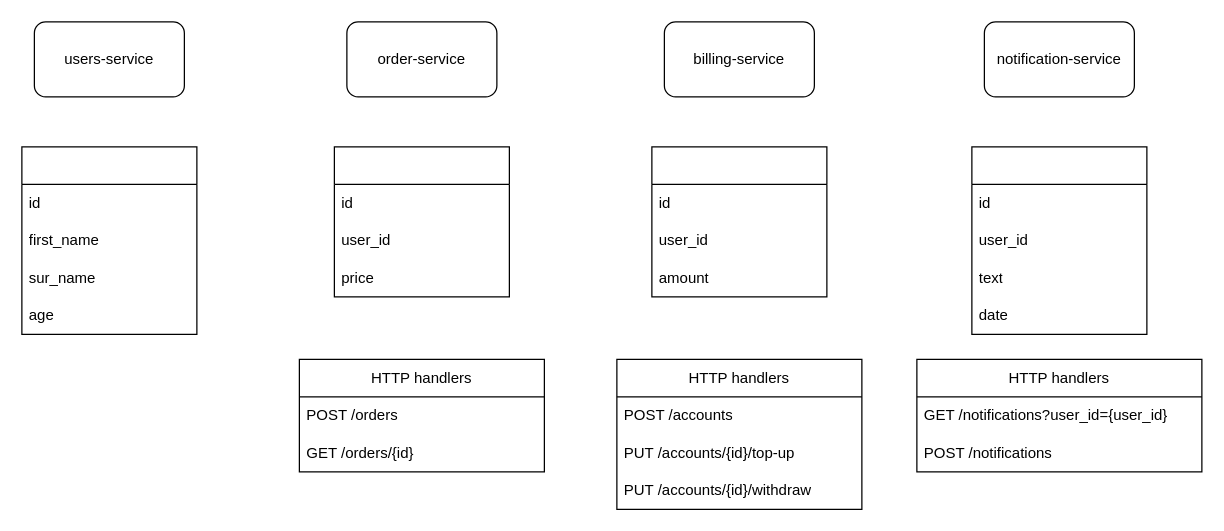
The diagram is 1224 pixels wide and 531 high, and some of its shapes have lost their labels. The shapes that lost their labels are listed below. From the top down, each one's box as (x1, y1, x2, y2) in pixels, then its label:
(21, 146, 197, 334): users
(333, 146, 509, 297): orders
(651, 146, 827, 297): accounts
(971, 146, 1147, 334): notifications
